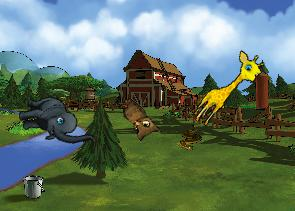elephant: (15, 87, 95, 157)
giraffe: (189, 45, 268, 135)
owl: (109, 95, 163, 146)
